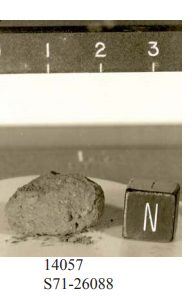Breccia: (9, 168, 110, 235)
